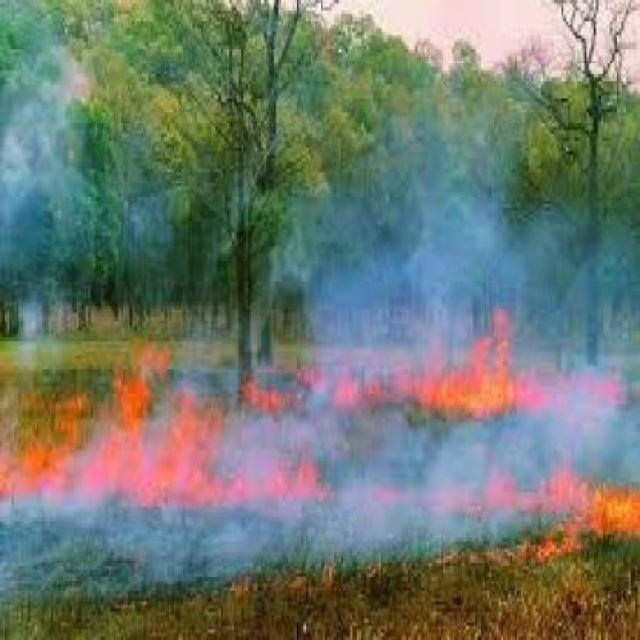Fire: (0, 364, 321, 533), (320, 280, 622, 440), (443, 438, 640, 603)
